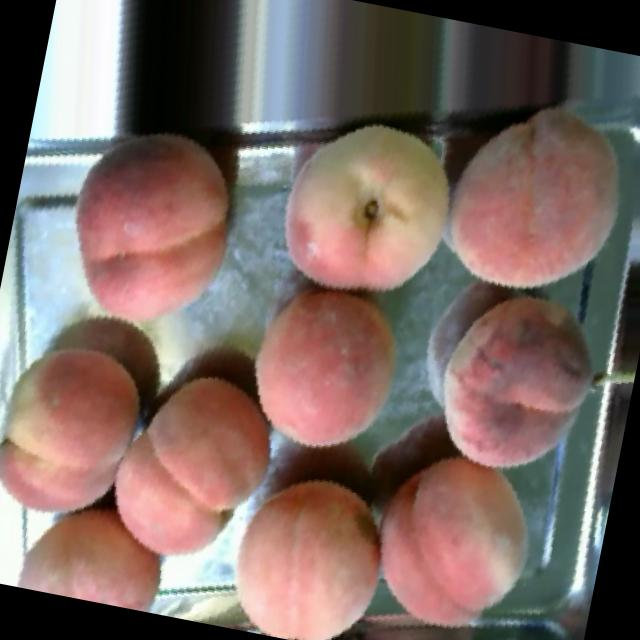Fruit: (36, 105, 264, 354), (426, 73, 640, 325), (103, 341, 304, 594), (257, 92, 472, 322), (411, 267, 624, 499), (217, 260, 423, 477), (0, 308, 175, 553), (362, 431, 560, 640), (201, 447, 398, 640), (0, 468, 193, 617)
